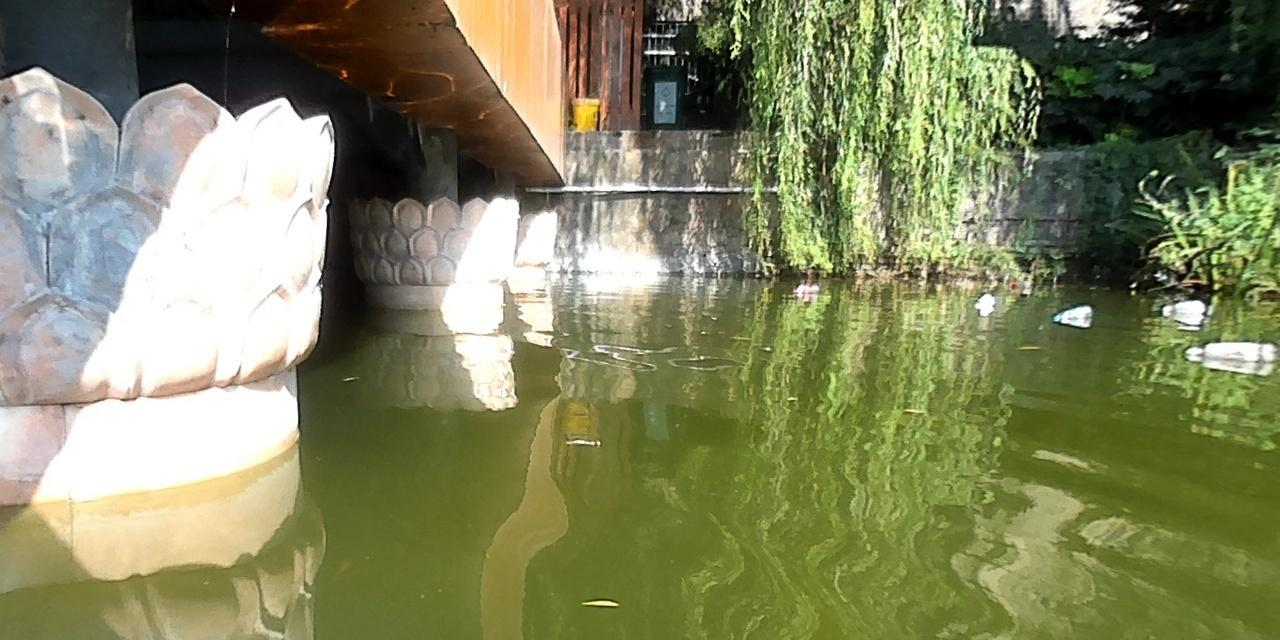bottle: (1185, 339, 1273, 366), (1160, 298, 1204, 318), (1056, 304, 1092, 324), (970, 291, 994, 310), (789, 282, 818, 295)
